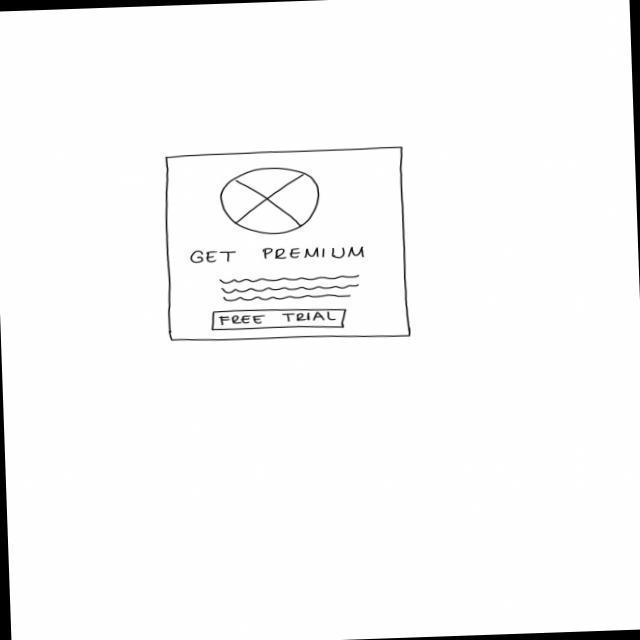button: (211, 306, 349, 334)
container: (163, 146, 413, 346)
image: (220, 166, 323, 237)
label: (189, 244, 368, 266)
textbox: (220, 274, 363, 303)
